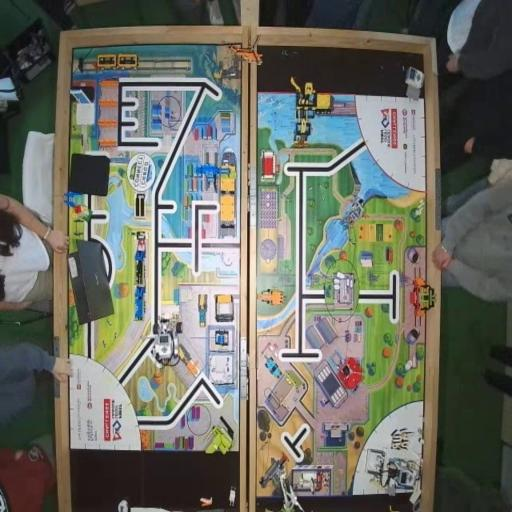lego_robot: (365, 448, 423, 511), (150, 312, 184, 372)
